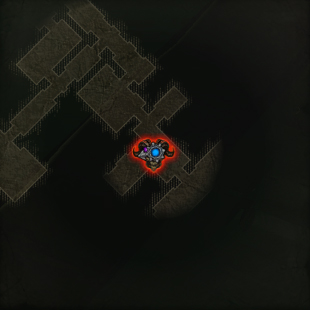Guardian: (129, 135, 179, 175)
